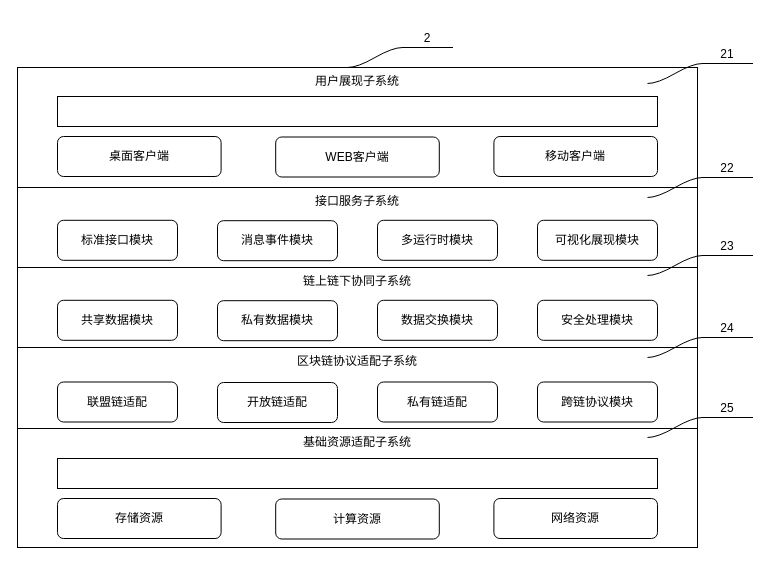
The diagram is 770 pixels wide and 565 high, and some of its shapes have lost their labels. The centre of each missing label's shape, as x and y in pixels:
"iass/paas/saas云适配引擎(kubernetes/docker/wasm等)" goes at [357,473].
"跨端适配(html/css/js/electron等)" goes at [357,111].
